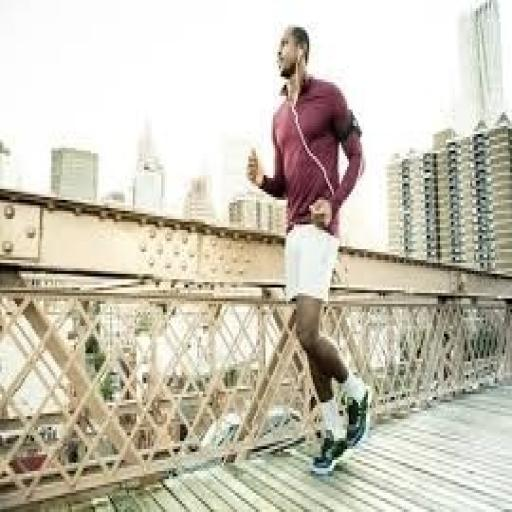running: (243, 22, 375, 479)
